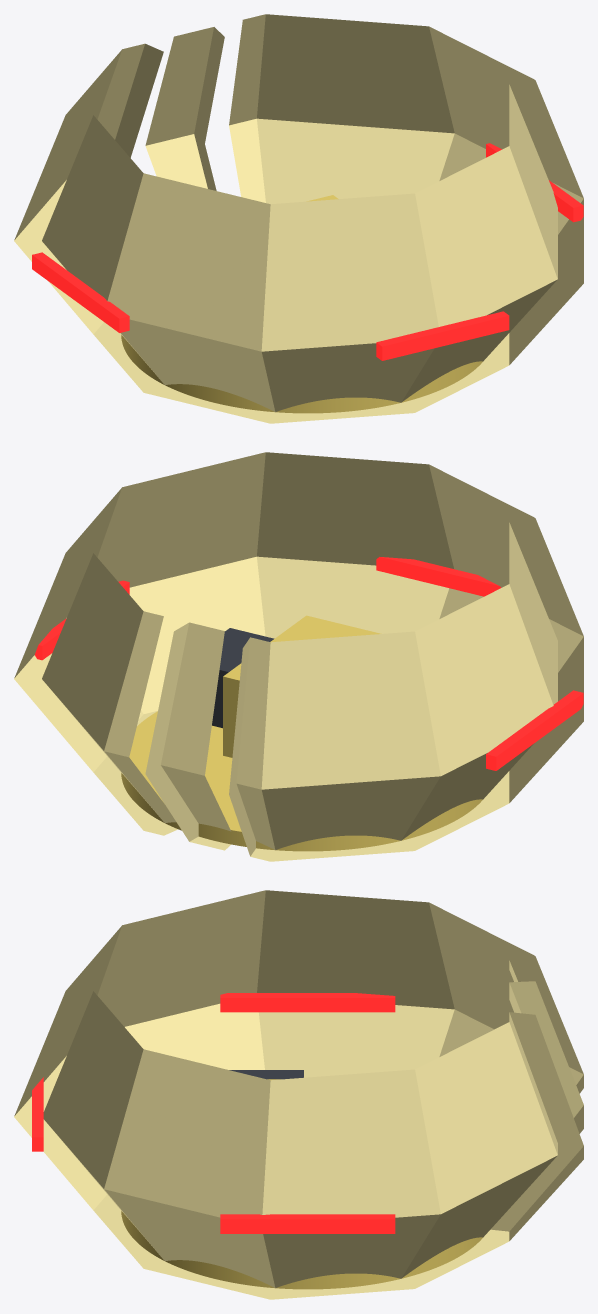
The model's file is Wirbelwind_turret.glb.
The picture shows the model from 3 angles, top to bottom: view 1: azimuth 30°, elevation 25°; view 2: azimuth 150°, elevation 25°; view 3: azimuth 270°, elevation 25°; orthographic projection.
Parts seen in each view (by area): view 1: Wirbelwind_Turret; view 2: Wirbelwind_Turret; view 3: Wirbelwind_Turret.
Part boxes in pixels (x1,y1,x2,y2): Wirbelwind_Turret: (14,14,583,423); Wirbelwind_Turret: (14,452,583,861); Wirbelwind_Turret: (14,890,583,1299).
Bounding box in the file's own units: 2.92 × 1.22 × 2.87.
